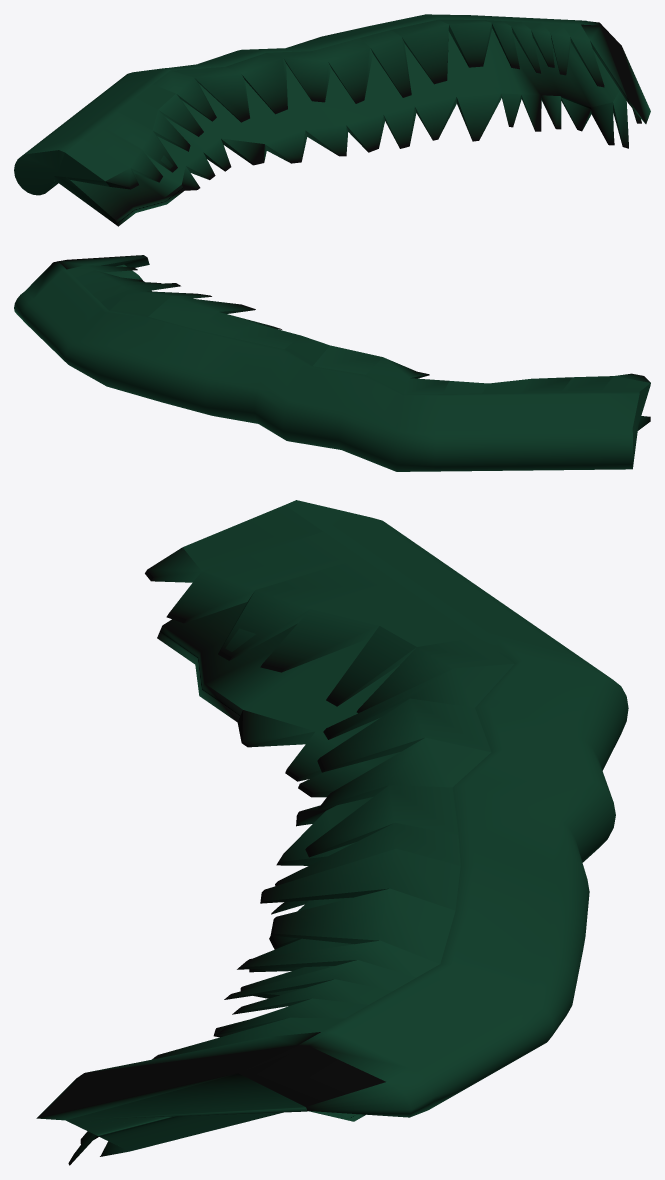
Rendered from RightWingColor.fbx.
The picture shows the model from 3 angles, top to bottom: view 1: azimuth 30°, elevation 25°; view 2: azimuth 150°, elevation 25°; view 3: azimuth 270°, elevation 25°; orthographic projection. The views are drawn at different scales.
Parts seen in each view (by area): view 1: pCylinder1; view 2: pCylinder1; view 3: pCylinder1.
Part boxes in pixels (x1=…): pCylinder1: x1=14, y1=14, x2=650, y2=226; pCylinder1: x1=14, y1=255, x2=650, y2=471; pCylinder1: x1=36, y1=500, x2=628, y2=1165.
Size of the model in its own units: 4.67 by 0.7002 by 2.09.
